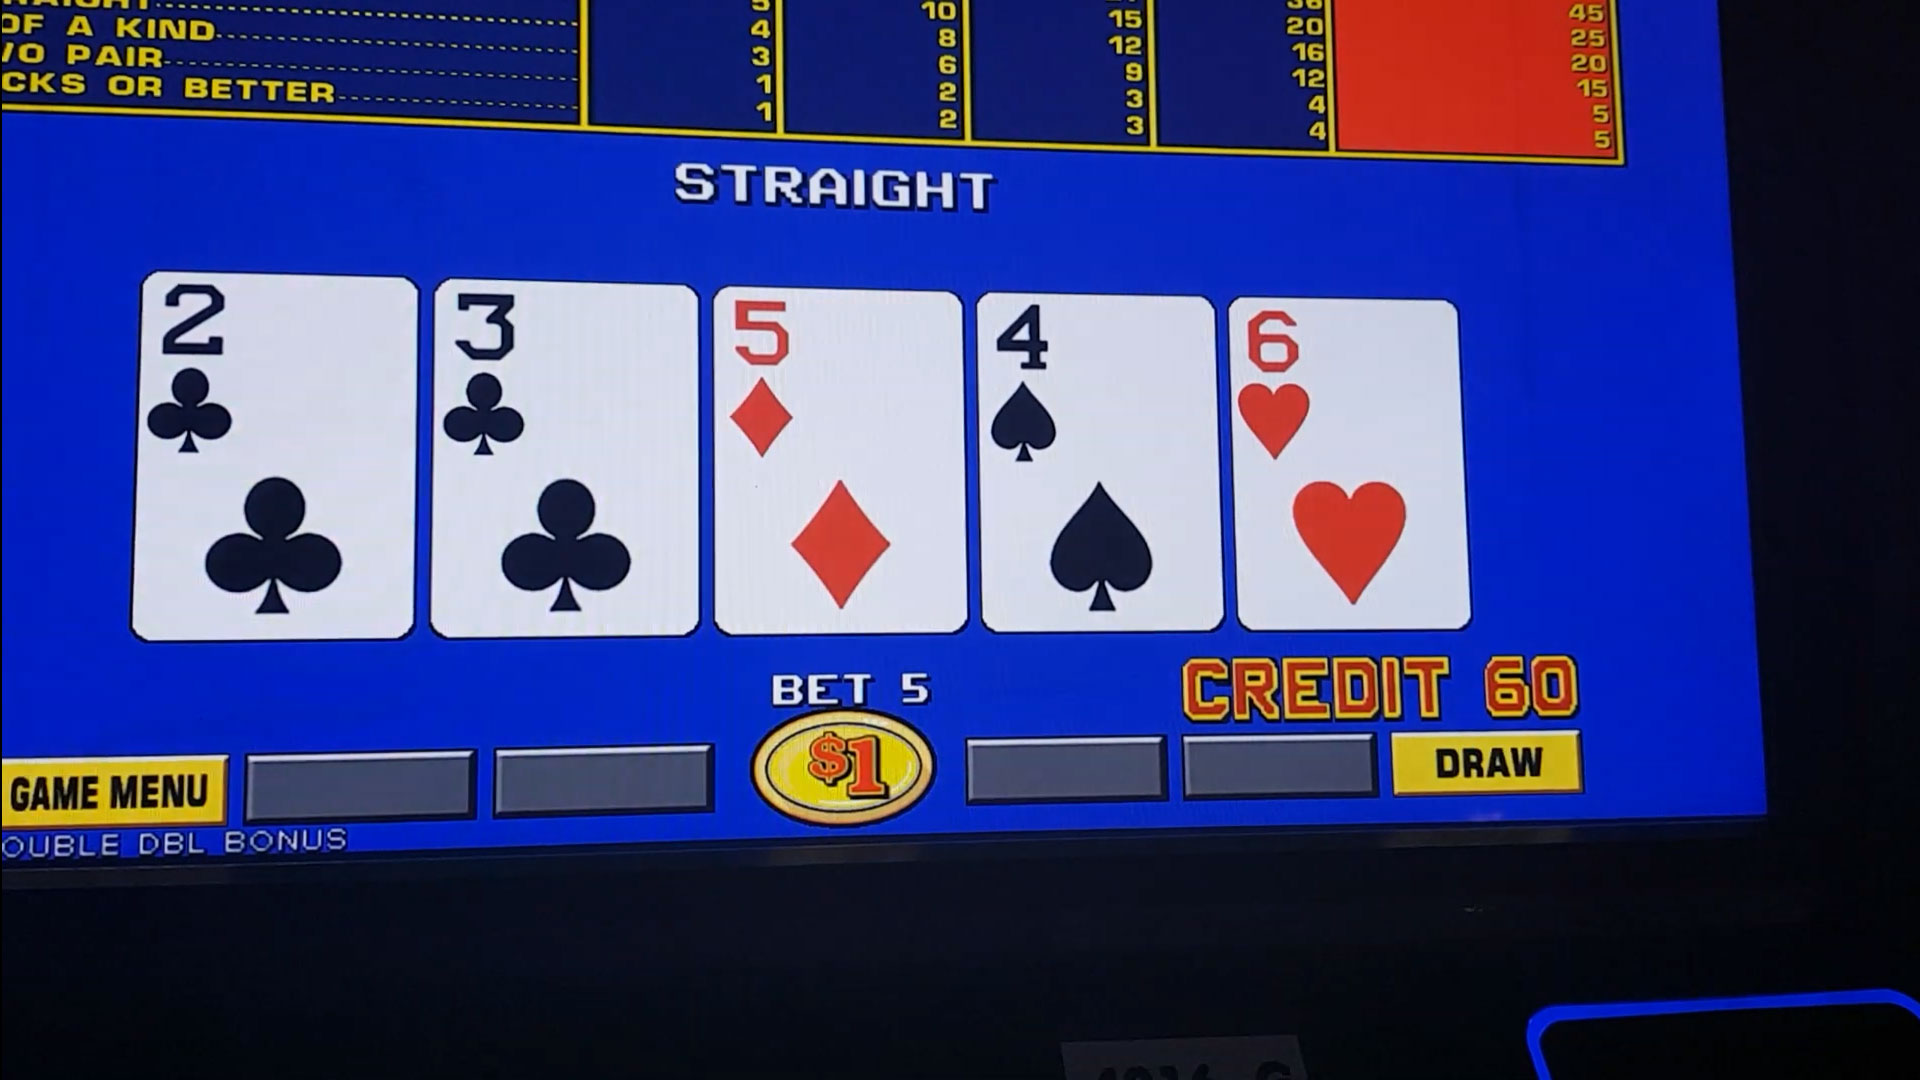C2: (146, 284, 407, 458)
C3: (439, 291, 691, 462)
D5: (720, 298, 957, 460)
H6: (1236, 305, 1455, 469)
S4: (984, 301, 1208, 467)
